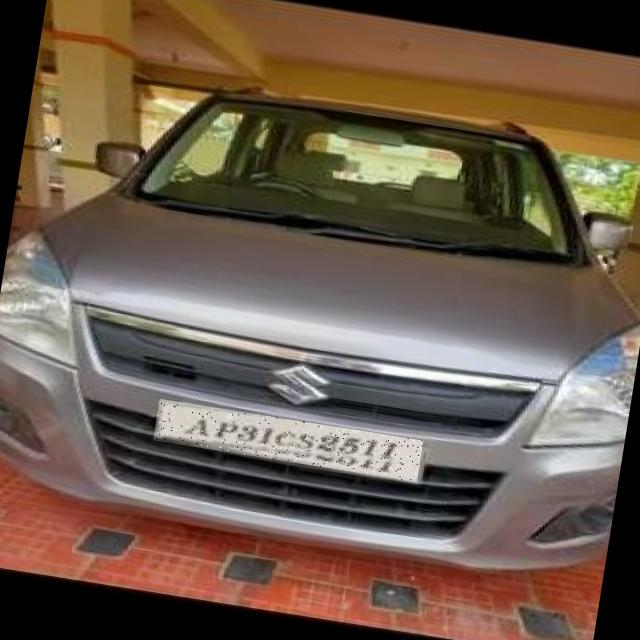Plate: (155, 400, 425, 483)
